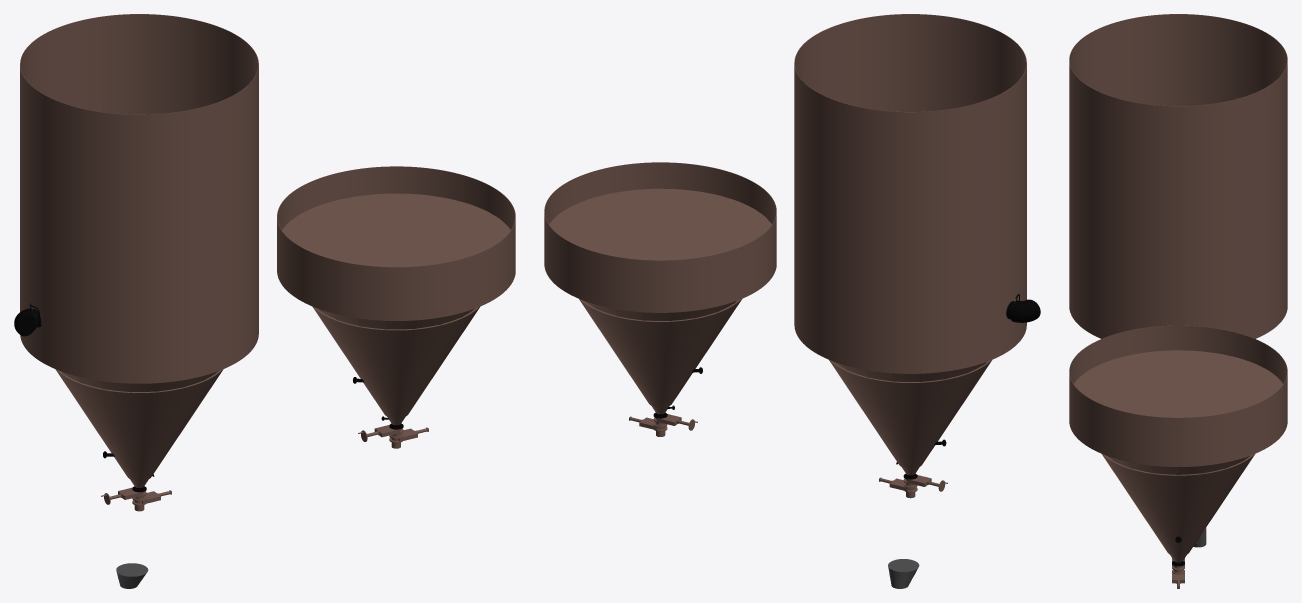
Rendered from GCC-AAV-13220-30.nwd(75).fbx.
3 renders of one model, left to right at view 1: azimuth 30°, elevation 25°; view 2: azimuth 150°, elevation 25°; view 3: azimuth 270°, elevation 25°, orthographic. The views are drawn at different scales.
Visible parts, largest first — view 1: CYLINDER 6 of EQUIPMENT /714-S-401C, CYLINDER 7 of EQUIPMENT /714-S-401C, CYLINDER 10 of EQUIPMENT /714-S-402C, CONE 1 of EQUIPMENT /714-S-402C, CYLINDER 8 of EQUIPMENT /714-S-401C, CYLINDER 9 of EQUIPMENT /714-S-401C, CYLINDER 10 of EQUIPMENT /714-S-401C, CONE 2 of EQUIPMENT /714-S-402C, CONE 2 of EQUIPMENT /714-S-401C, CONE 1 of EQUIPMENT /714-S-401C, GENPRI 2 of VOLMODEL /724-X-411; view 2: CYLINDER 6 of EQUIPMENT /714-S-401C, CYLINDER 7 of EQUIPMENT /714-S-401C, CYLINDER 10 of EQUIPMENT /714-S-402C, CONE 1 of EQUIPMENT /714-S-402C, CYLINDER 8 of EQUIPMENT /714-S-401C, CYLINDER 9 of EQUIPMENT /714-S-401C, CYLINDER 10 of EQUIPMENT /714-S-401C, CONE 2 of EQUIPMENT /714-S-401C, CONE 2 of EQUIPMENT /714-S-402C, CONE 1 of EQUIPMENT /714-S-401C, GENPRI 2 of VOLMODEL /724-X-411, /714-S-401C-N09; view 3: CYLINDER 6 of EQUIPMENT /714-S-401C, CYLINDER 7 of EQUIPMENT /714-S-401C, CYLINDER 10 of EQUIPMENT /714-S-402C, CONE 1 of EQUIPMENT /714-S-402C, CYLINDER 8 of EQUIPMENT /714-S-401C, CYLINDER 9 of EQUIPMENT /714-S-401C, CYLINDER 10 of EQUIPMENT /714-S-401C, CONE 2 of EQUIPMENT /714-S-402C.
Boxes of the visible parts, x1,y1,x2,y2 form: CYLINDER 6 of EQUIPMENT /714-S-401C: (20,14,258,168); CYLINDER 7 of EQUIPMENT /714-S-401C: (20,68,258,222); CYLINDER 10 of EQUIPMENT /714-S-402C: (277,166,515,320); CONE 1 of EQUIPMENT /714-S-402C: (282,193,510,425); CYLINDER 8 of EQUIPMENT /714-S-401C: (20,173,258,276); CYLINDER 9 of EQUIPMENT /714-S-401C: (20,227,258,329); CYLINDER 10 of EQUIPMENT /714-S-401C: (20,281,258,383); CONE 2 of EQUIPMENT /714-S-402C: (312,306,480,418); CONE 2 of EQUIPMENT /714-S-401C: (55,369,223,480); CONE 1 of EQUIPMENT /714-S-401C: (61,371,218,487); GENPRI 2 of VOLMODEL /724-X-411: (116,563,148,588); CYLINDER 6 of EQUIPMENT /714-S-401C: (794,14,1026,164); CYLINDER 7 of EQUIPMENT /714-S-401C: (794,66,1026,216); CYLINDER 10 of EQUIPMENT /714-S-402C: (544,162,776,312); CONE 1 of EQUIPMENT /714-S-402C: (549,188,771,414); CYLINDER 8 of EQUIPMENT /714-S-401C: (794,169,1026,269); CYLINDER 9 of EQUIPMENT /714-S-401C: (794,221,1026,321); CYLINDER 10 of EQUIPMENT /714-S-401C: (794,274,1026,373); CONE 2 of EQUIPMENT /714-S-401C: (829,360,991,468); CONE 2 of EQUIPMENT /714-S-402C: (579,299,741,407); CONE 1 of EQUIPMENT /714-S-401C: (834,362,986,475); GENPRI 2 of VOLMODEL /724-X-411: (888,559,919,588); /714-S-401C-N09: (1006,294,1040,322); CYLINDER 6 of EQUIPMENT /714-S-401C: (1069,14,1287,155); CYLINDER 7 of EQUIPMENT /714-S-401C: (1069,63,1287,204); CYLINDER 10 of EQUIPMENT /714-S-402C: (1069,325,1287,466); CONE 1 of EQUIPMENT /714-S-402C: (1074,350,1282,562); CYLINDER 8 of EQUIPMENT /714-S-401C: (1069,162,1287,253); CYLINDER 9 of EQUIPMENT /714-S-401C: (1069,211,1287,303); CYLINDER 10 of EQUIPMENT /714-S-401C: (1069,260,1287,338); CONE 2 of EQUIPMENT /714-S-402C: (1102,454,1254,555).
Size of the model in its own units: 748 by 774 by 317.
